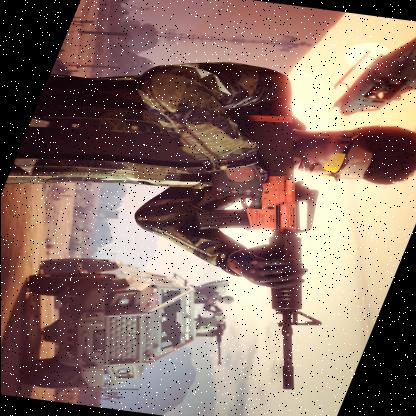rifle: (119, 105, 414, 392)
